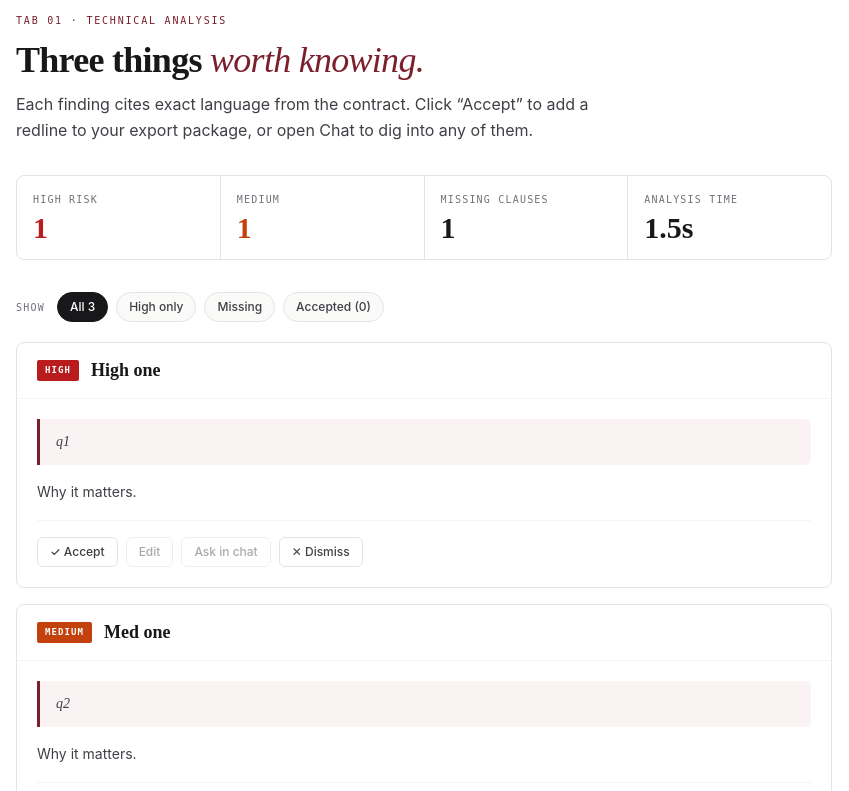
<Findings /> › filter chips: "High only" hides medium and missing; "All" restores them
Click the button "High only".
click(156, 307)  # box [116,292,196,322]
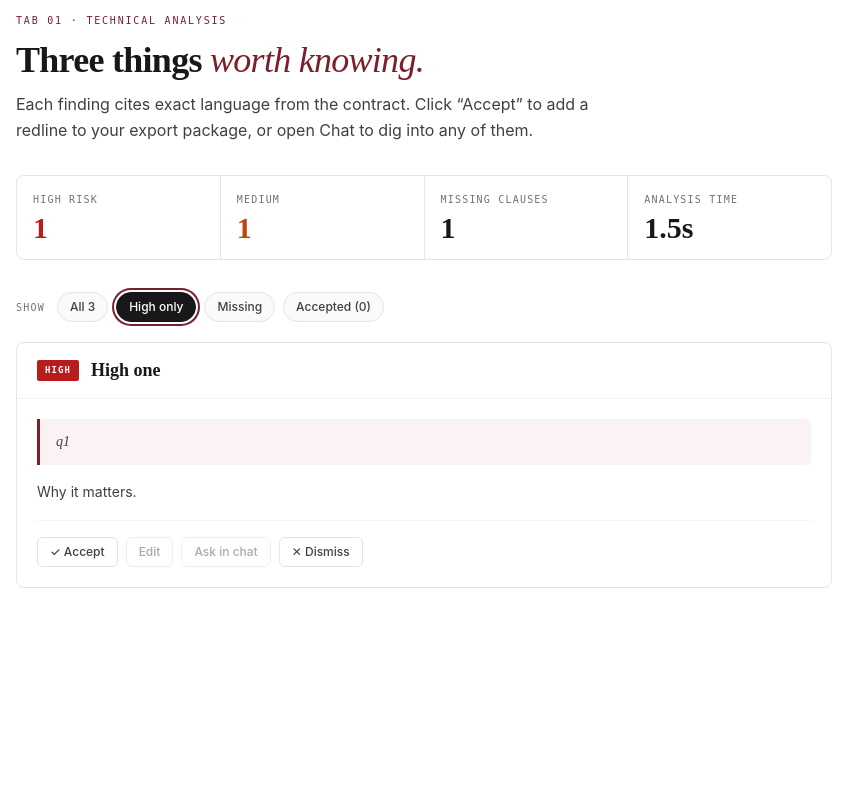
Expected: the heading "High one" is shown, [91,360,160,380]
Expected: the number of elements with test id "finding-card" is 1, [16,342,832,588]
Expected: the heading "Med one" is gone
Click the button "All 3".
click(83, 307)  # box [57,292,108,322]
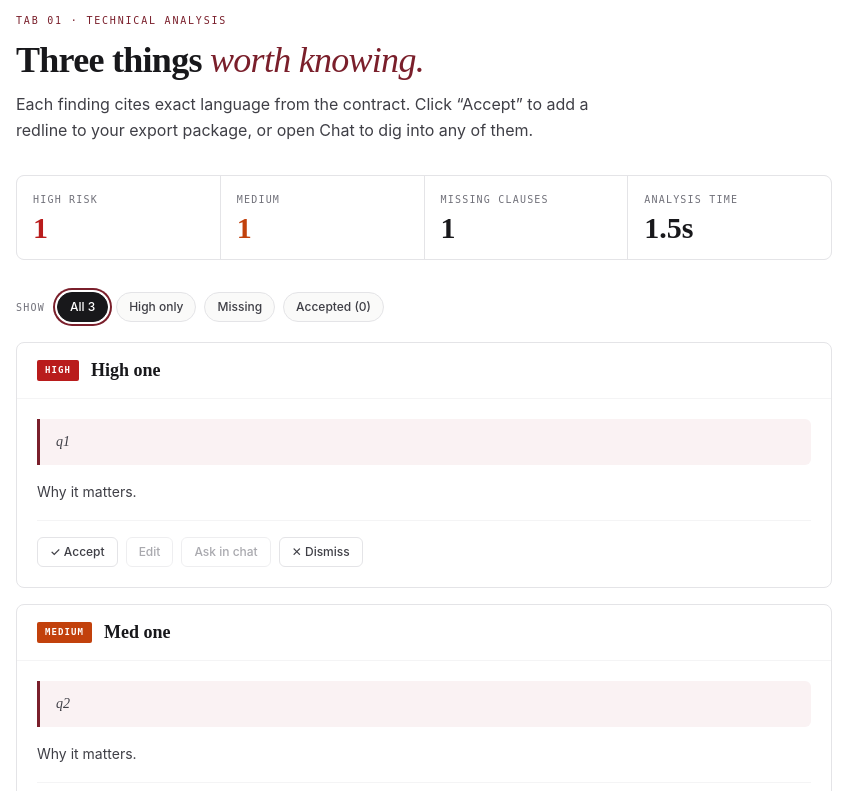
Expected: the number of elements with test id "finding-card" is 3
